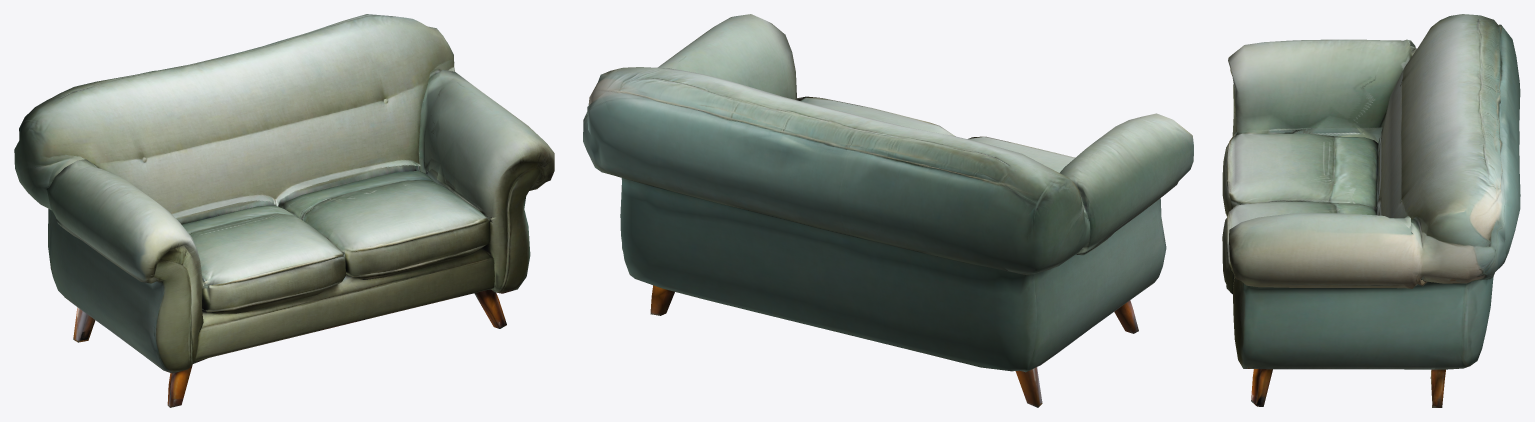
File: 1950s_couch_cartooni_0401220616_texture.fbx
The picture shows the model from 3 angles, left to right: view 1: azimuth 30°, elevation 25°; view 2: azimuth 150°, elevation 25°; view 3: azimuth 270°, elevation 25°; orthographic projection. The views are drawn at different scales.
Parts seen in each view (by area): view 1: Mesh1; view 2: Mesh1; view 3: Mesh1.
Part boxes in pixels (left/top/right/bottom): Mesh1: left=14, top=14, right=554, bottom=407; Mesh1: left=583, top=14, right=1193, bottom=407; Mesh1: left=1222, top=14, right=1520, bottom=407.
Size of the model in its own units: 200 by 106 by 123.
1 material, 1 textured.
